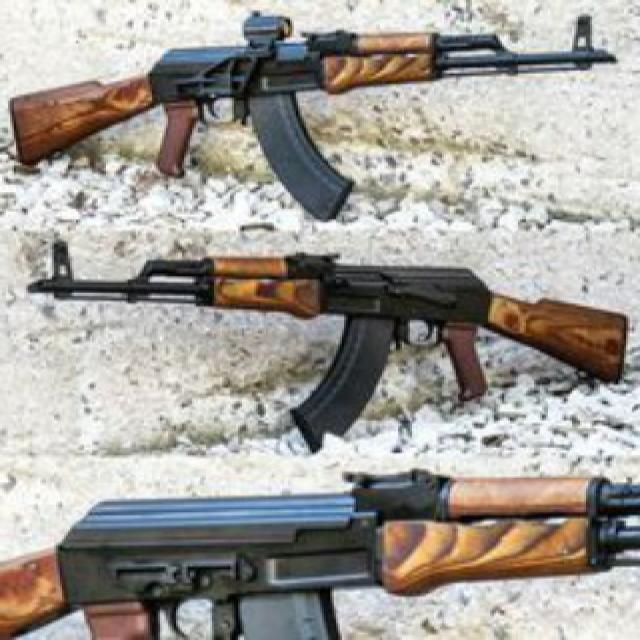rifle: (3, 1, 625, 220), (17, 238, 637, 452), (5, 466, 639, 640)
